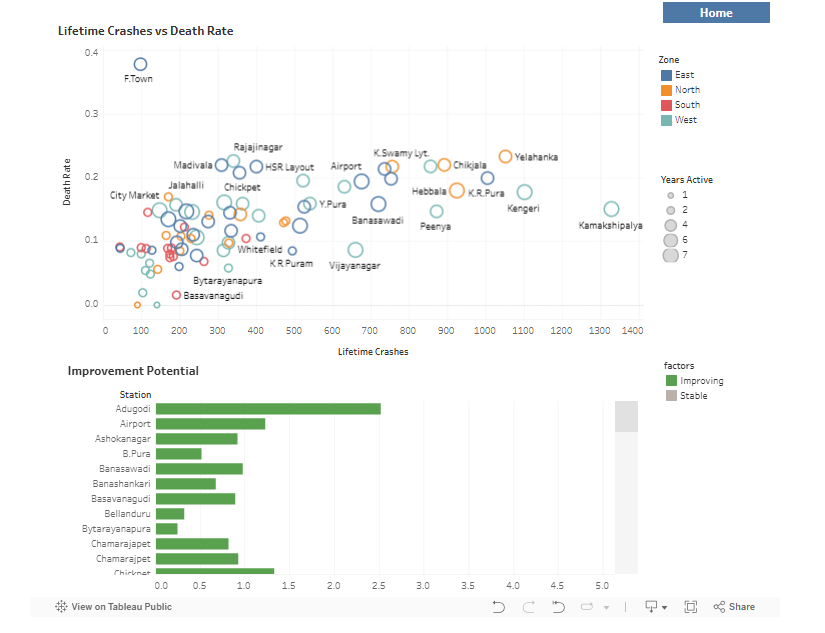

The page's visual inventory and layout, read from the dashboard file:
{"tool":"tableau","page":{"name":"5.Getting Better","canvas":[1000,800],"ordinal":4},"visuals":[{"type":"dashboard-object","box":[844,6,142,28]},{"type":"worksheet","title":"5.Lifetime Crashes vs Death Rate","mark":"Automatic","rows":["DEATH_RATE"],"cols":["LIFETIME_CRASHES"],"box":[33,27,785,459]},{"type":"legend","title":"5.Lifetime Crashes vs Death Rate","param":"[federated.0zl7oc21mq5agh0zut6m012olyf6].[none:ZONE:nk]","box":[838,75,155,154]},{"type":"legend","title":"5.Lifetime Crashes vs Death Rate","param":"[federated.0zl7oc21mq5agh0zut6m012olyf6].[sum:YEARS_ACTIVE:qk]","box":[841,235,140,169]},{"type":"legend","title":"5.Improvement Potential","param":"[federated.0zl7oc21mq5agh0zut6m012olyf6].[none:Calculation_1382605154246250498:n","box":[845,482,140,76]}]}

Visuals, with their boxes on the page's 1000x800 design canvas (x1, y1, x2, y2). These are canvas units, not pixel positions in the 825x633 screenshot, which may show the page scaled, cropped or inside an application window:
dashboard-object: x1=844 y1=6 x2=986 y2=34
"5.Lifetime Crashes vs Death Rate" worksheet: x1=33 y1=27 x2=818 y2=486
"5.Lifetime Crashes vs Death Rate" legend: x1=838 y1=75 x2=993 y2=229
"5.Lifetime Crashes vs Death Rate" legend: x1=841 y1=235 x2=981 y2=404
"5.Improvement Potential" legend: x1=845 y1=482 x2=985 y2=558
